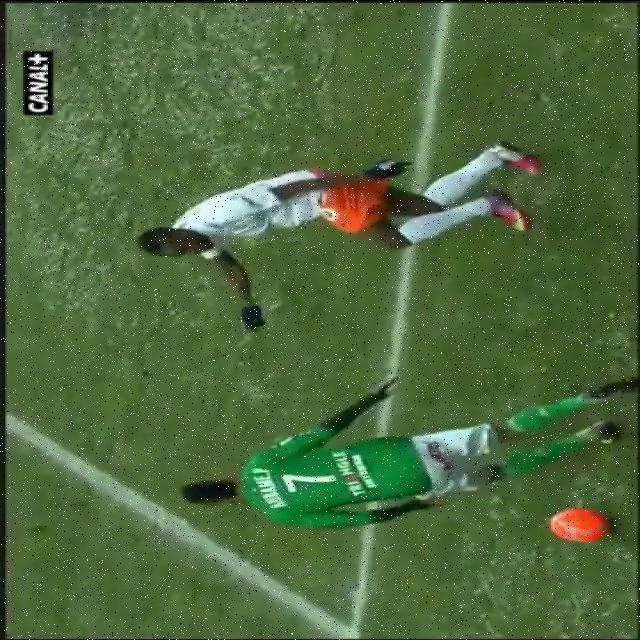ball: (498, 480, 640, 584)
player: (70, 80, 598, 350), (194, 359, 640, 541)
